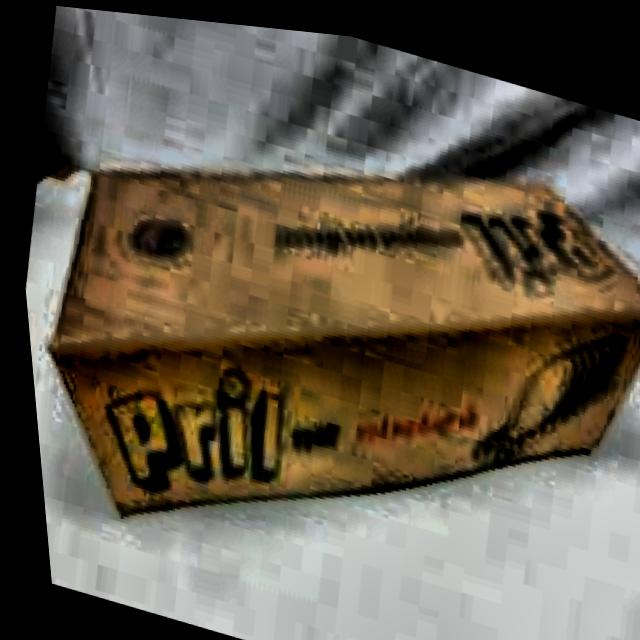Cardbox: (3, 38, 640, 640)
